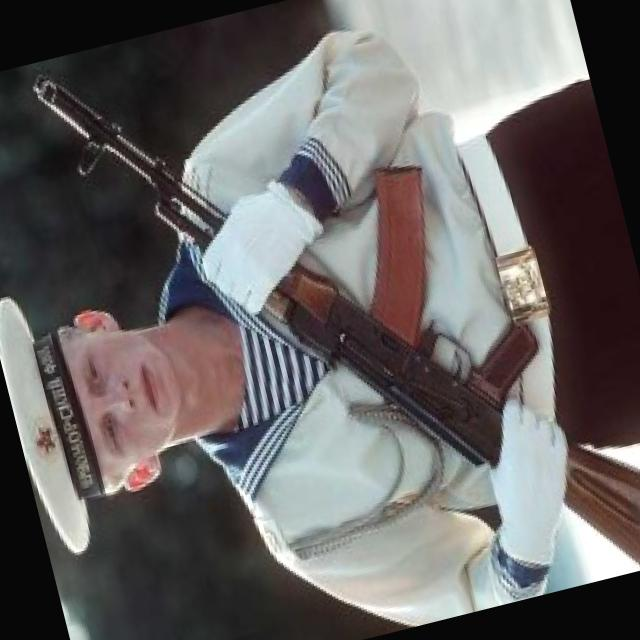long weapon: (8, 59, 640, 575)
